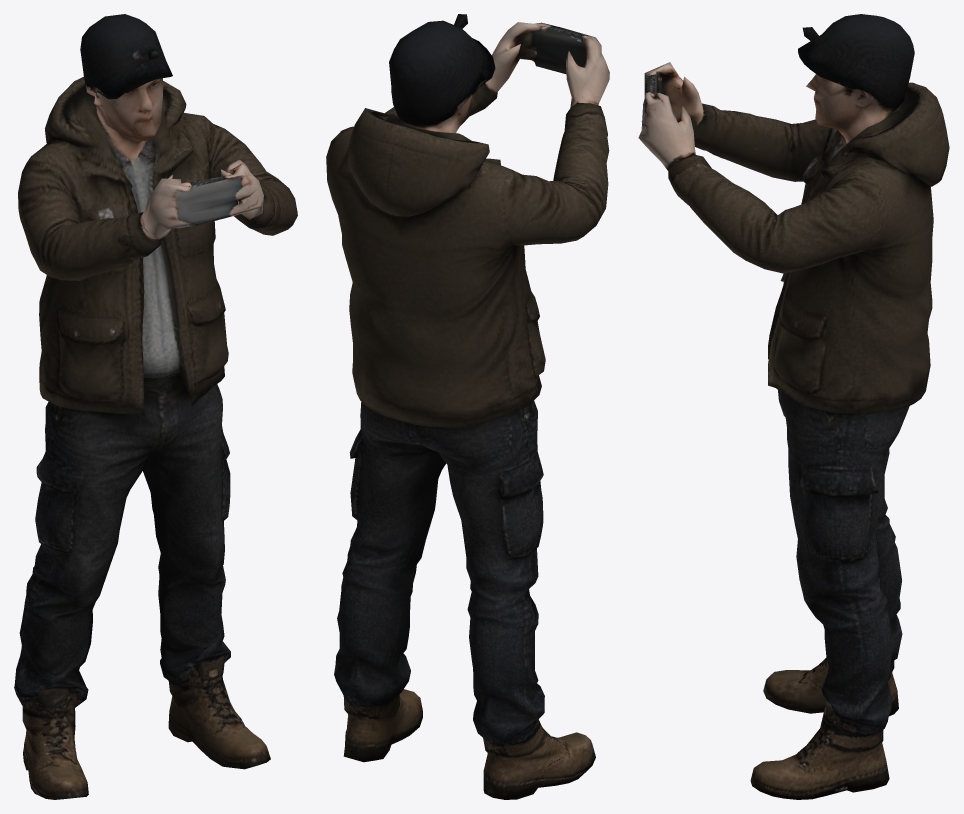
The model's file is man-with-jacket.glb.
3 renders of one model, left to right at view 1: azimuth 30°, elevation 25°; view 2: azimuth 150°, elevation 25°; view 3: azimuth 270°, elevation 25°, orthographic. The views are drawn at different scales.
Parts seen in each view (by area): view 1: tripo_node_a0808361-4771-4194-86a7-b3b785971a12; view 2: tripo_node_a0808361-4771-4194-86a7-b3b785971a12; view 3: tripo_node_a0808361-4771-4194-86a7-b3b785971a12.
Boxes of the visible parts, x1,y1,x2,y2 form: tripo_node_a0808361-4771-4194-86a7-b3b785971a12: (14, 14, 297, 799); tripo_node_a0808361-4771-4194-86a7-b3b785971a12: (326, 14, 609, 799); tripo_node_a0808361-4771-4194-86a7-b3b785971a12: (638, 14, 949, 799).
Bounding box in the file's own units: 0.3457 × 0.998 × 0.3848.
1 material, 1 textured.
